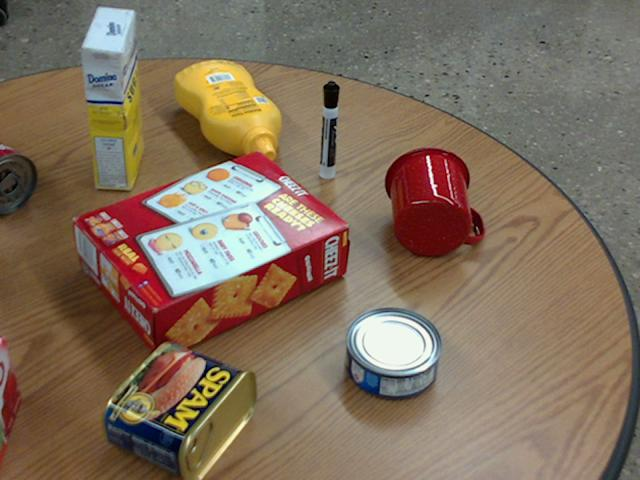cracker_box: (75, 152, 349, 358)
gelatin_box: (0, 334, 18, 454)
large_marker: (320, 81, 339, 177)
mug: (384, 146, 485, 255)
mustard_bottle: (174, 60, 280, 161)
potted_meat_can: (101, 341, 255, 479)
sugar_box: (82, 7, 143, 189)
tomato_soup_can: (0, 140, 37, 212)
tuna_fish_can: (344, 307, 441, 398)
